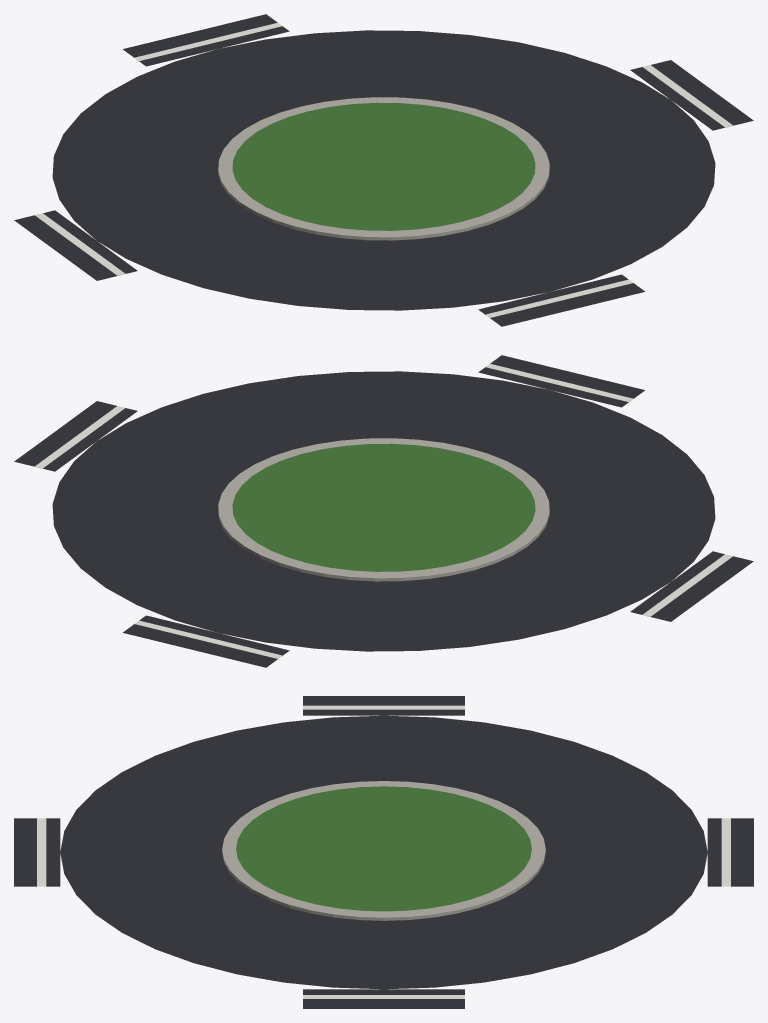
The model's file is road-roundabout.glb.
The picture shows the model from 3 angles, top to bottom: view 1: azimuth 30°, elevation 25°; view 2: azimuth 150°, elevation 25°; view 3: azimuth 270°, elevation 25°; orthographic projection. The views are drawn at different scales.
Visible parts, largest first — view 1: road-roundabout; view 2: road-roundabout; view 3: road-roundabout.
Part boxes in pixels (box(x1,y1,x2,y2)): road-roundabout: box(14, 14, 753, 326); road-roundabout: box(14, 355, 753, 667); road-roundabout: box(14, 696, 753, 1008).
Size of the model in its own units: 32 by 0.17 by 32.
